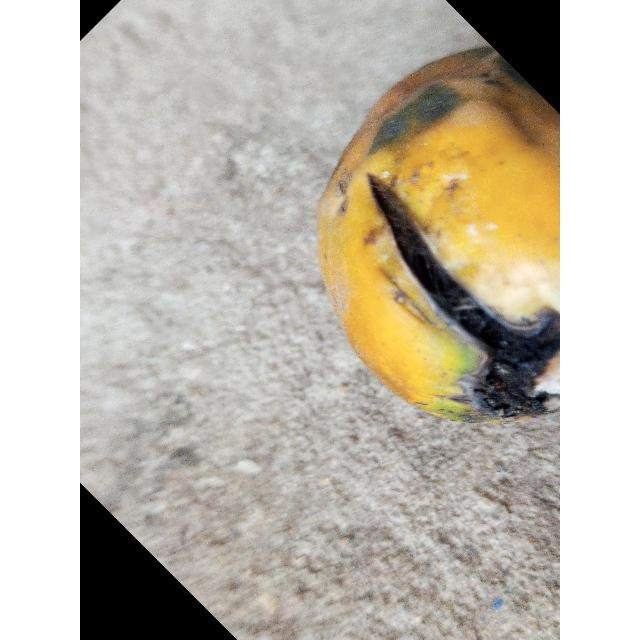damaged: (316, 47, 560, 423)
